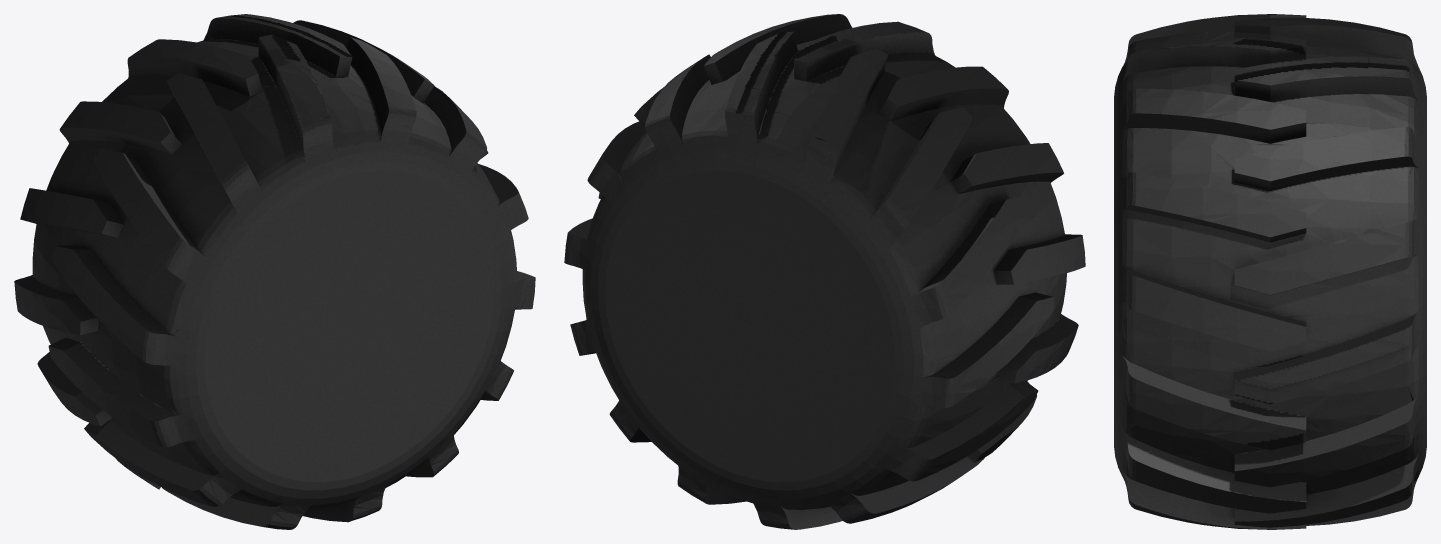
File: wheel_sxl_v2.dae
3 views of the same model, side by side, from view 1: azimuth 30°, elevation 25°; view 2: azimuth 150°, elevation 25°; view 3: azimuth 270°, elevation 25° (orthographic). The views are drawn at different scales.
Parts seen in each view (by area): view 1: wheel_sxl; view 2: wheel_sxl; view 3: wheel_sxl.
Part boxes in pixels (<box>): wheel_sxl: <box>14,14,535,529</box>; wheel_sxl: <box>564,14,1085,529</box>; wheel_sxl: <box>1114,14,1426,529</box>.
Bounding box in the file's own units: 0.235 × 0.1425 × 0.235.
Materials: 1 (1 with a texture image).
